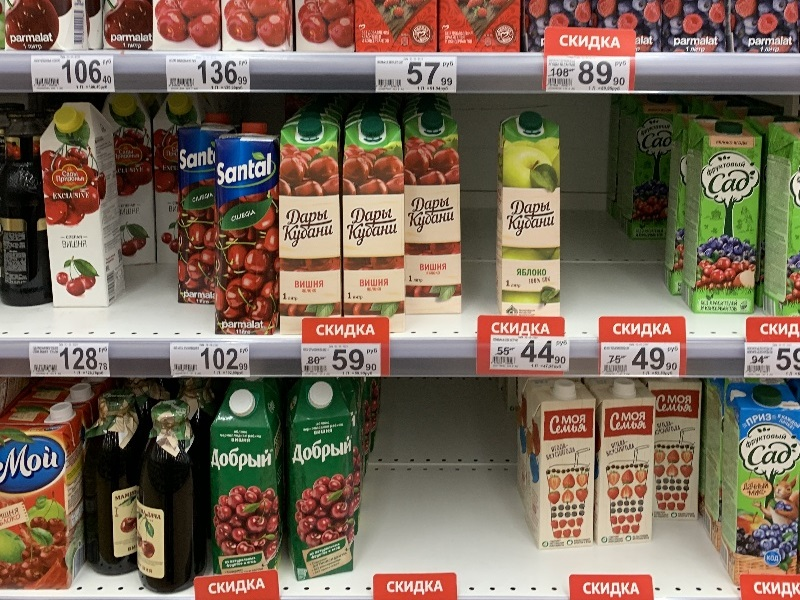juice: (37, 99, 129, 311), (205, 121, 290, 337), (271, 113, 355, 327), (487, 109, 571, 320), (334, 114, 419, 322), (682, 115, 766, 315), (202, 387, 290, 576), (397, 112, 471, 327), (288, 378, 360, 589)
